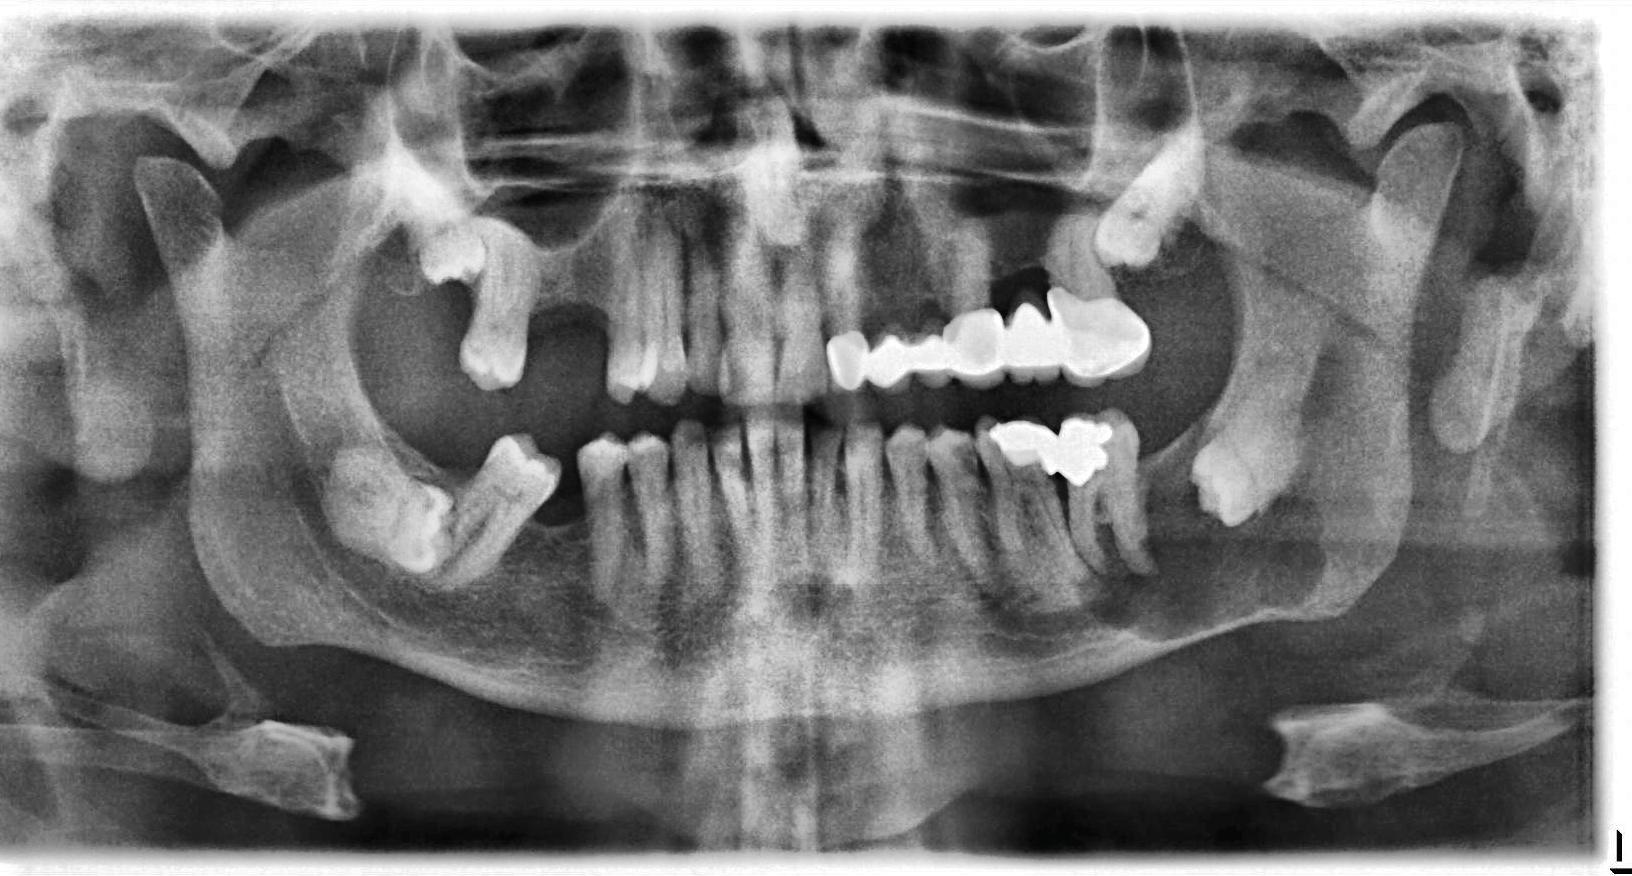dentigeroz: (1075, 419, 1328, 643)
